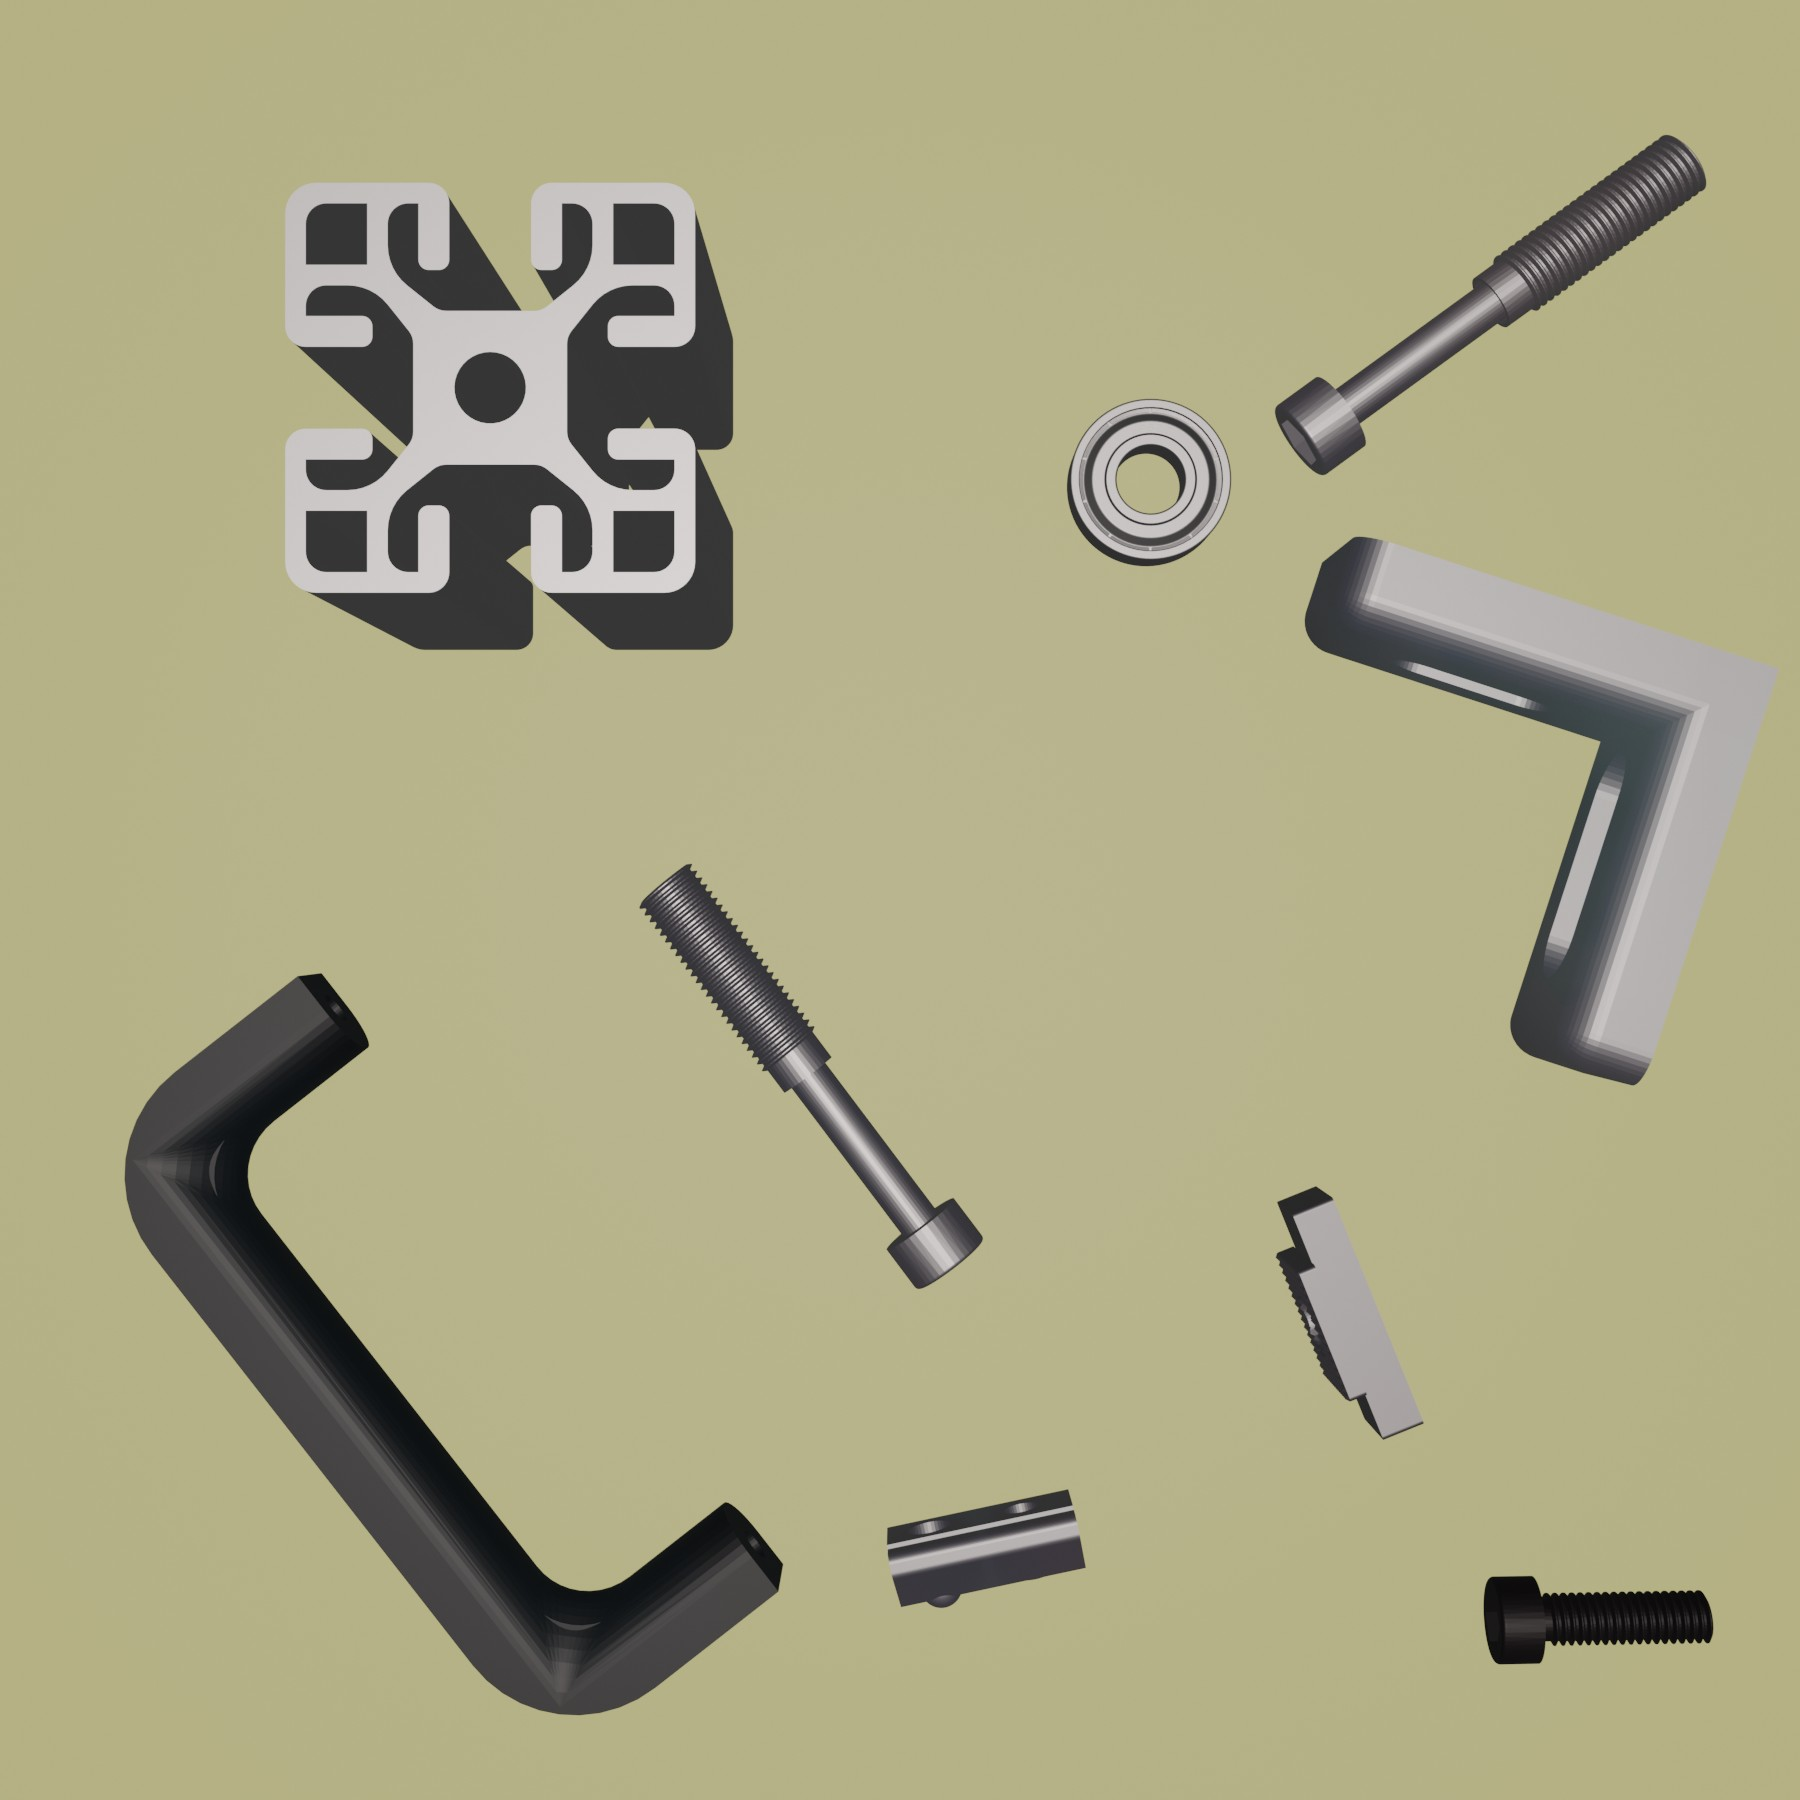Aluminium Extension: (279, 178, 738, 654)
Ball Bearing: (1065, 396, 1235, 569)
Multiwinkel: (1301, 536, 1779, 1090)
Pull Handle: (120, 969, 788, 1719)
Shoulder Socket Head Cap Screw: (1269, 130, 1711, 480), (635, 860, 987, 1292)
Socket Head Cap Screw: (1482, 1573, 1719, 1670)
T Nut Square: (1271, 1180, 1427, 1442)
T Spring Nut: (880, 1484, 1090, 1615)
